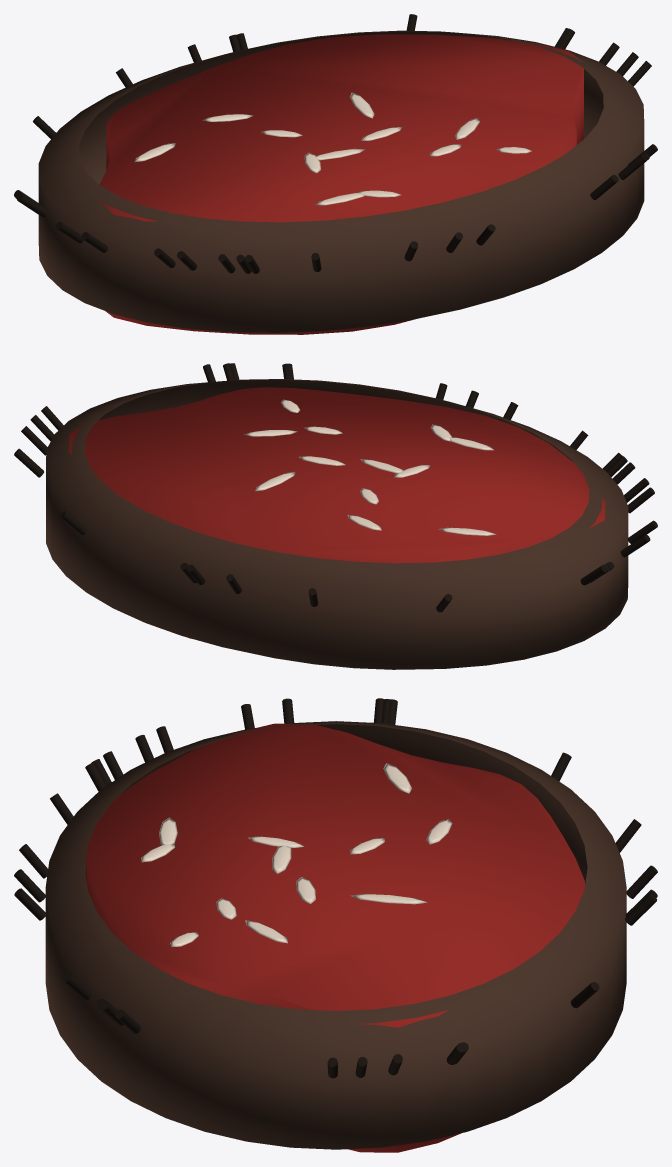
Rendered from wildschweinfleisch.glb.
3 views of the same model, one above another, from view 1: azimuth 30°, elevation 25°; view 2: azimuth 150°, elevation 25°; view 3: azimuth 270°, elevation 25° (orthographic). The views are drawn at different scales.
Parts seen in each view (by area): view 1: schwarte, Cylinder; view 2: schwarte, Cylinder; view 3: Cylinder, schwarte.
Boxes of the visible parts, x1=… form: schwarte: x1=38, y1=30, x2=644, y2=332; Cylinder: x1=99, y1=34, x2=583, y2=334; schwarte: x1=46, y1=379, x2=628, y2=669; Cylinder: x1=68, y1=387, x2=605, y2=638; Cylinder: x1=85, y1=723, x2=584, y2=1152; schwarte: x1=45, y1=721, x2=626, y2=1149.
Bounding box in the file's own units: 0.2558 × 0.0441 × 0.1909.
